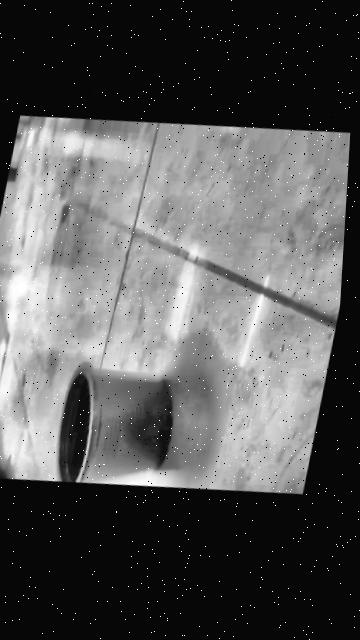pot: (48, 353, 184, 497)
